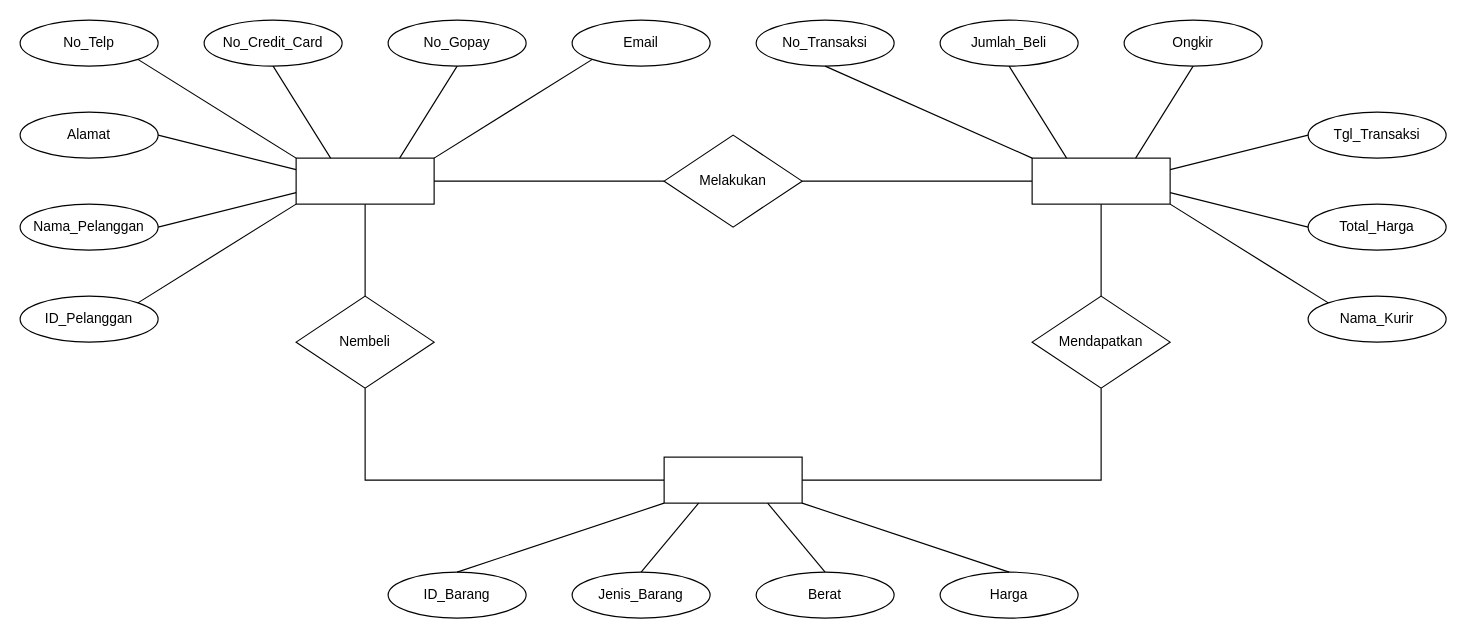
This 1466x638 diagram has some shape labels left out. Here are the shapes that lost their labels. From the top down, the centre of each, then its label:
At point (364, 180): "Customer".
At point (1100, 180): "Transaksi".
At point (732, 479): "Barang".
